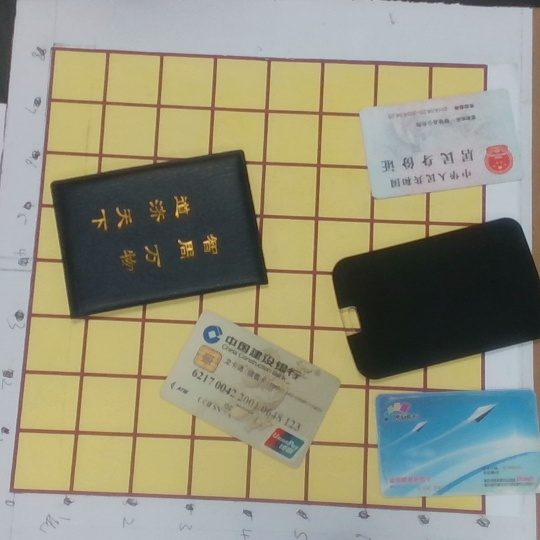card: (157, 309, 340, 467), (358, 88, 526, 200), (374, 388, 540, 500)
wallet: (46, 148, 269, 318), (333, 218, 540, 378)
